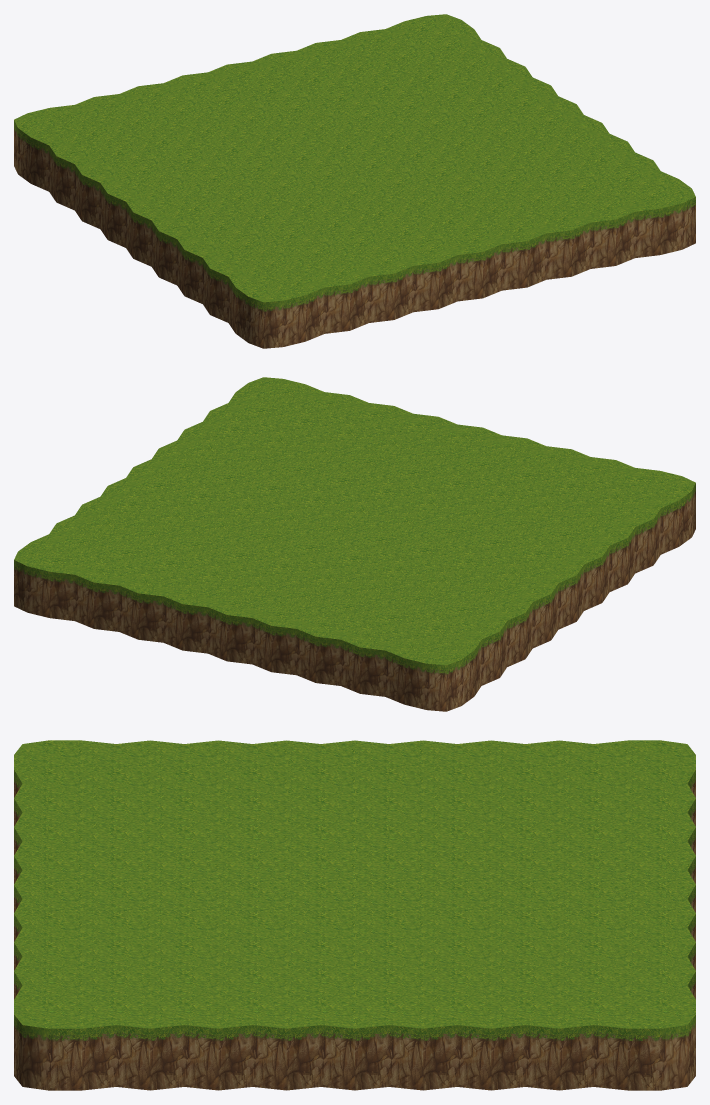
The model's file is OssanTataki.fbx.
3 renders of one model, top to bottom at view 1: azimuth 30°, elevation 25°; view 2: azimuth 150°, elevation 25°; view 3: azimuth 270°, elevation 25°, orthographic. The views are drawn at different scales.
Parts seen in each view (by area): view 1: Terrain; view 2: Terrain; view 3: Terrain.
Boxes of the visible parts, bbox=[...] form: Terrain: bbox=[14, 14, 695, 348]; Terrain: bbox=[14, 377, 695, 711]; Terrain: bbox=[14, 740, 695, 1090].
Bounding box in the file's own units: 10 × 1 × 10.
1 material, 1 textured.
